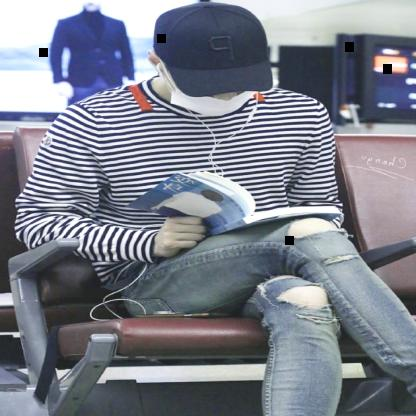mask: (154, 43, 276, 118)
